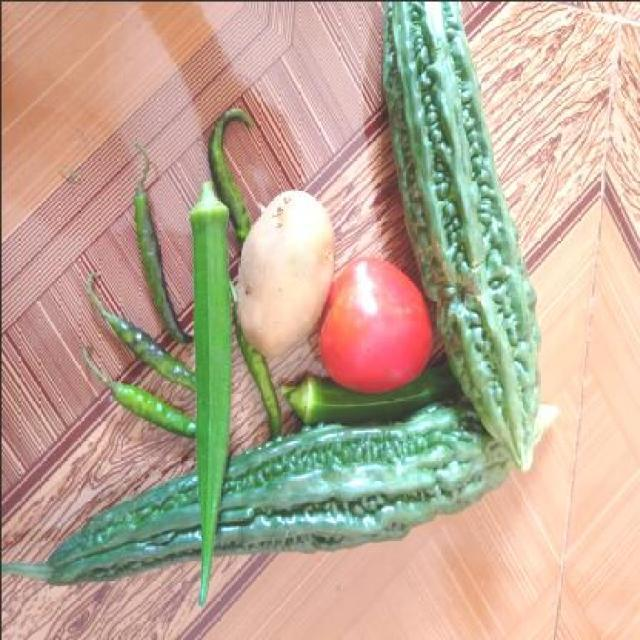Potato: (230, 178, 338, 354)
Tomato: (314, 262, 434, 384)
